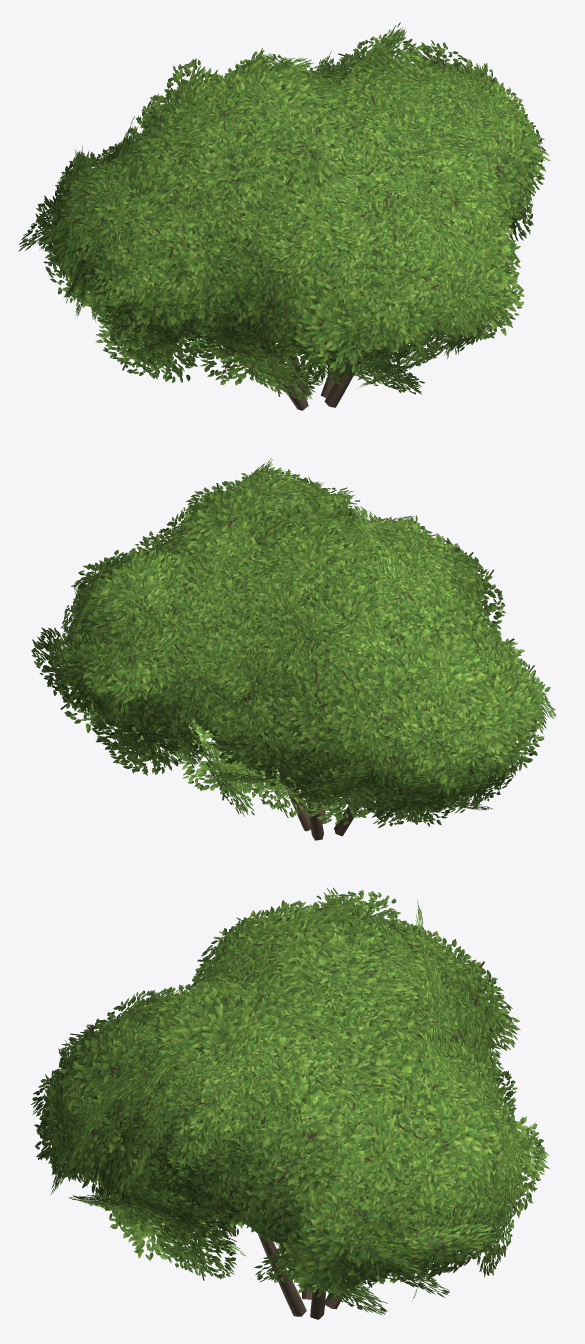
File: Bush_Round_B.fbx
The picture shows the model from 3 angles, top to bottom: view 1: azimuth 30°, elevation 25°; view 2: azimuth 150°, elevation 25°; view 3: azimuth 270°, elevation 25°; orthographic projection. The views are drawn at different scales.
Visible parts, largest first — view 1: Bush_Round_B; view 2: Bush_Round_B; view 3: Bush_Round_B.
Part boxes in pixels (left/top/right/bottom): Bush_Round_B: left=19, top=22, right=550, bottom=410; Bush_Round_B: left=31, top=458, right=556, bottom=840; Bush_Round_B: left=31, top=887, right=549, bottom=1319.
Bounding box in the file's own units: 1.91 × 1.29 × 1.64.
Materials: 2 (2 with a texture image).
